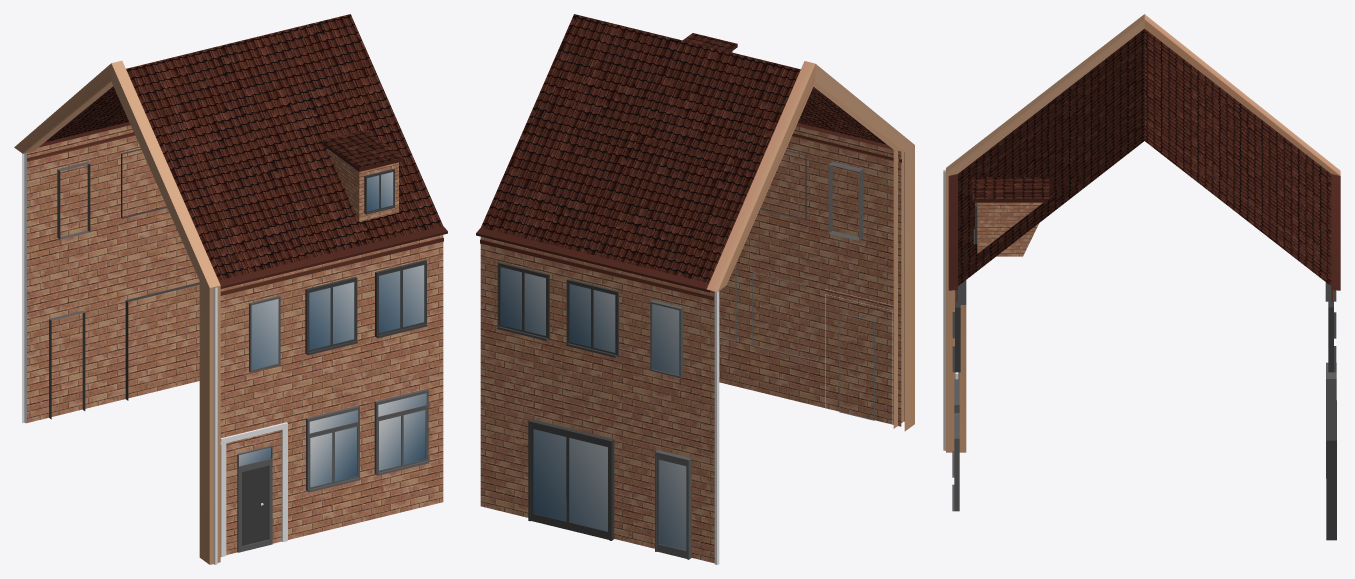
File: It_Tek_4.fbx
3 renders of one model, left to right at view 1: azimuth 30°, elevation 25°; view 2: azimuth 150°, elevation 25°; view 3: azimuth 270°, elevation 25°, orthographic.
Visible parts, largest first — view 1: It_Tek_4; view 2: It_Tek_4; view 3: It_Tek_4.
Boxes of the visible parts, x1,y1,x2,y2 form: It_Tek_4: [14, 14, 447, 564]; It_Tek_4: [476, 14, 914, 564]; It_Tek_4: [943, 14, 1340, 540].
Bounding box in the file's own units: 6.08 × 10.42 × 8.66.
